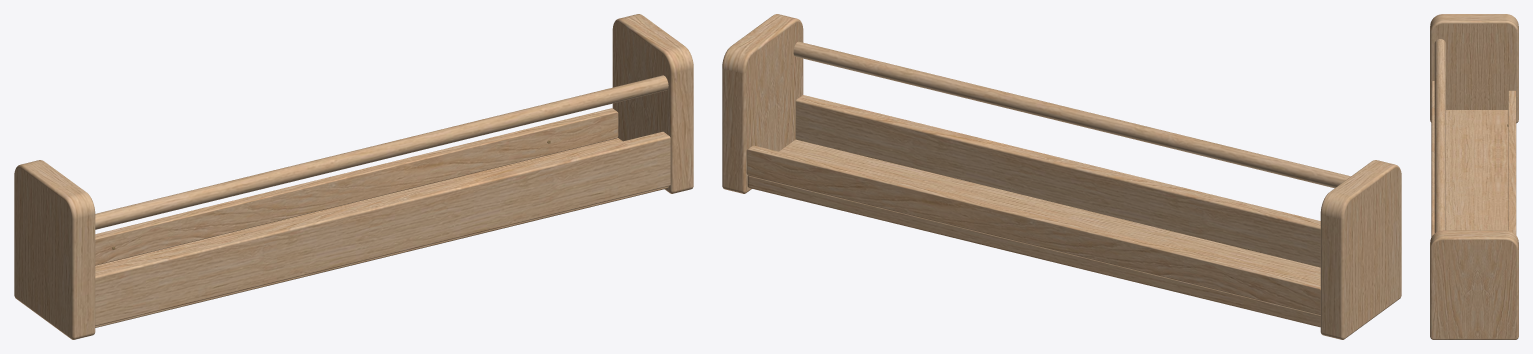
File: wall_picture_ledge_french_oak.glb
The picture shows the model from 3 angles, left to right: view 1: azimuth 30°, elevation 25°; view 2: azimuth 150°, elevation 25°; view 3: azimuth 270°, elevation 25°; orthographic projection. The views are drawn at different scales.
Parts seen in each view (by area): view 1: Oak_Casework; view 2: Oak_Casework; view 3: Oak_Casework.
Part boxes in pixels (box(x1,y1,x2,y2)): Oak_Casework: box(14, 14, 693, 339); Oak_Casework: box(722, 14, 1401, 339); Oak_Casework: box(1430, 14, 1518, 339).
Bounding box in the file's own units: 1.2 × 0.255 × 0.2.
Materials: 2 (1 with a texture image).
